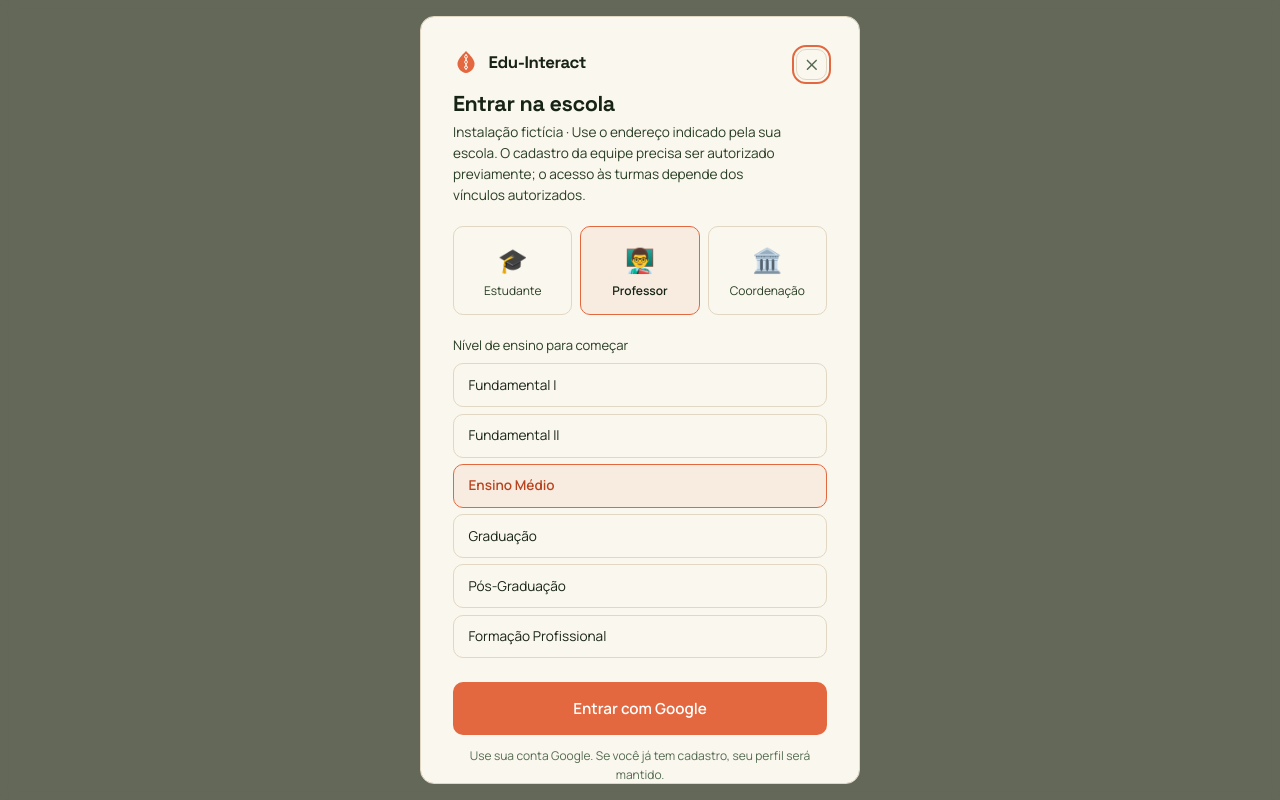
Test case: a escola conserva a entrada de equipe, mas bloqueia cadastro docente não autorizado
Check: the heading "Entrar na escola" is shown, box [453,90,615,117]
Check: the button "🏛️ Coordenação" is shown, box [708,226,827,315]
What coordinates should you click on to do the following:
click the button "Entrar com Google"
I would click on:
 (640, 709)
Its box is [453,682,827,735].
(page scrolled)
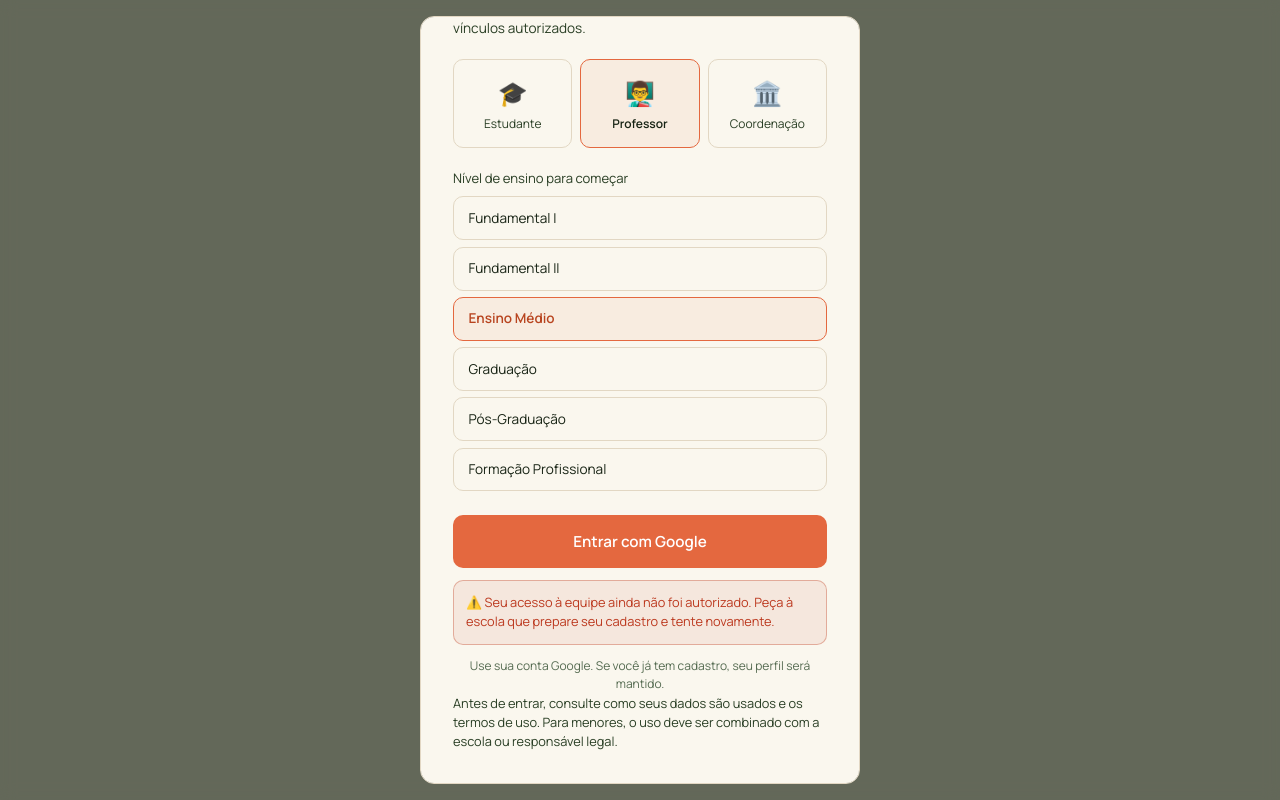
Check: the text "Seu acesso à equipe ainda não foi autorizado" is shown, box [466,593,793,630]
